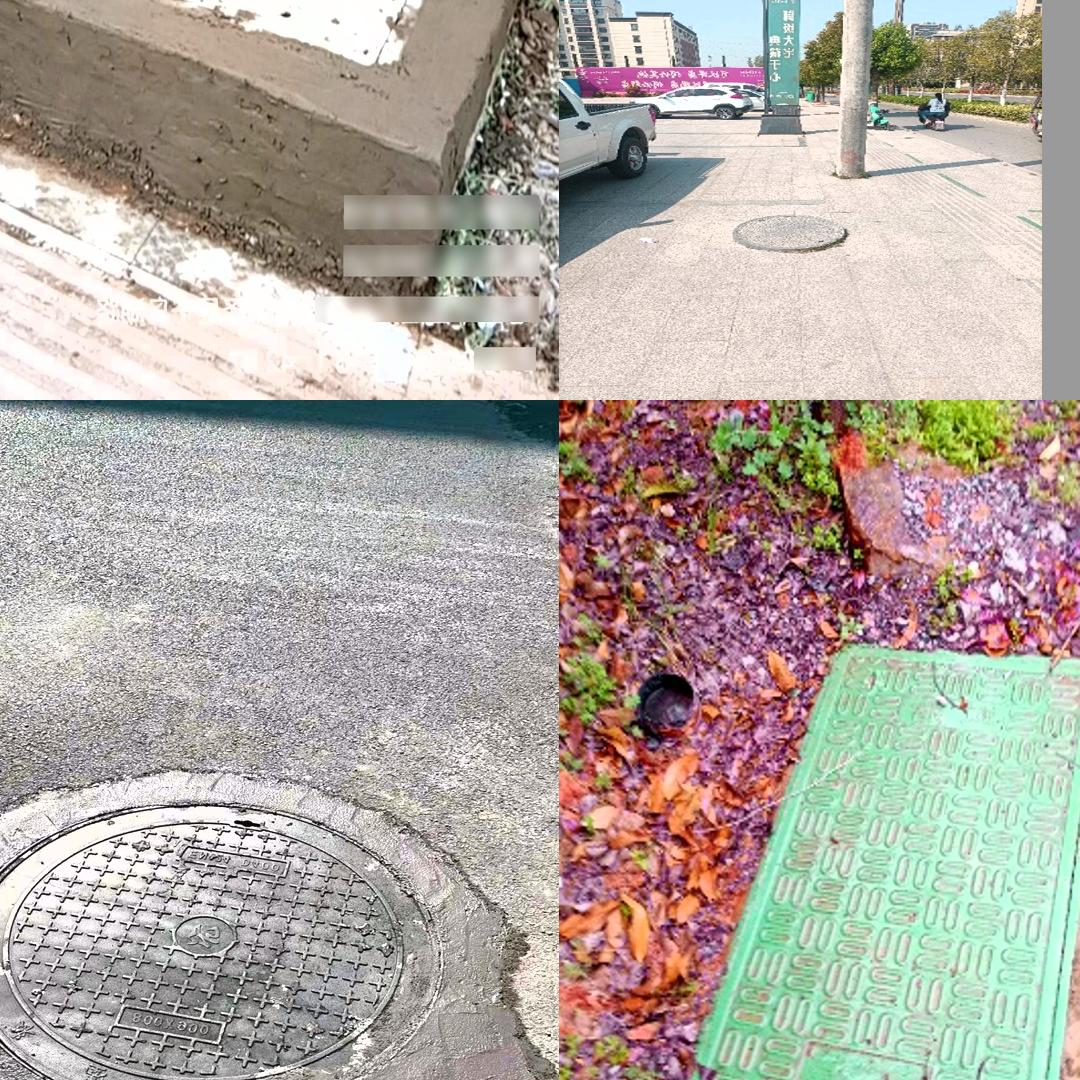good: (660, 641, 1080, 1080), (0, 769, 543, 1080), (6, 0, 458, 64), (733, 214, 845, 252)
